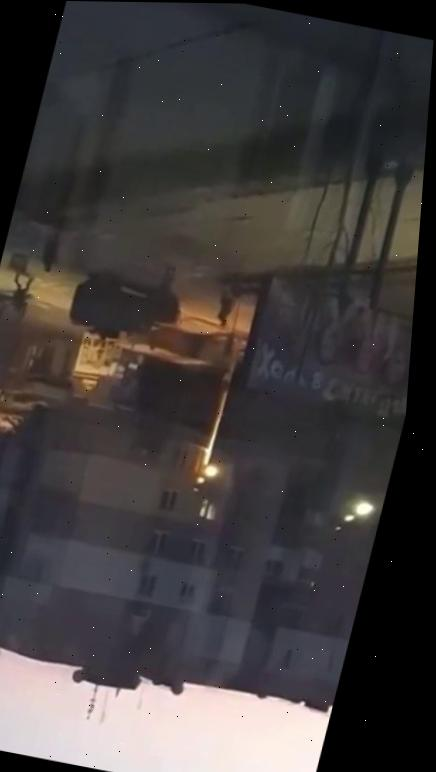armored_car: (62, 267, 186, 350)
person: (0, 263, 40, 318), (37, 221, 69, 275), (210, 278, 242, 331)
